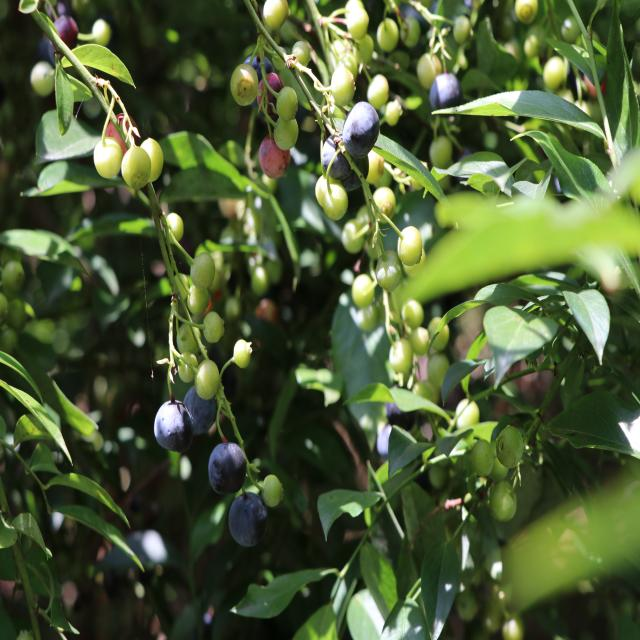blueberry: (226, 488, 272, 549), (150, 398, 197, 454), (206, 438, 249, 496), (341, 99, 381, 159), (182, 383, 218, 436), (242, 55, 276, 108), (428, 69, 464, 117), (321, 129, 355, 178), (384, 381, 416, 433), (338, 155, 372, 192)
blueberry-halfripe: (258, 134, 291, 178), (106, 112, 140, 146), (258, 72, 281, 116)
blueberry-unripe: (316, 173, 346, 219), (120, 143, 150, 188), (92, 138, 124, 178), (488, 474, 518, 516), (495, 425, 522, 468), (139, 136, 164, 181), (397, 226, 423, 267), (376, 250, 401, 289), (190, 252, 215, 290), (330, 66, 355, 104), (195, 359, 220, 396), (387, 338, 412, 374), (373, 185, 395, 225), (174, 325, 203, 355), (471, 438, 493, 477), (163, 210, 186, 246), (275, 112, 298, 148), (187, 283, 211, 316), (202, 312, 225, 344), (278, 84, 298, 118), (352, 275, 374, 304), (402, 299, 423, 328), (263, 472, 282, 504), (177, 355, 199, 381), (232, 341, 251, 367)
